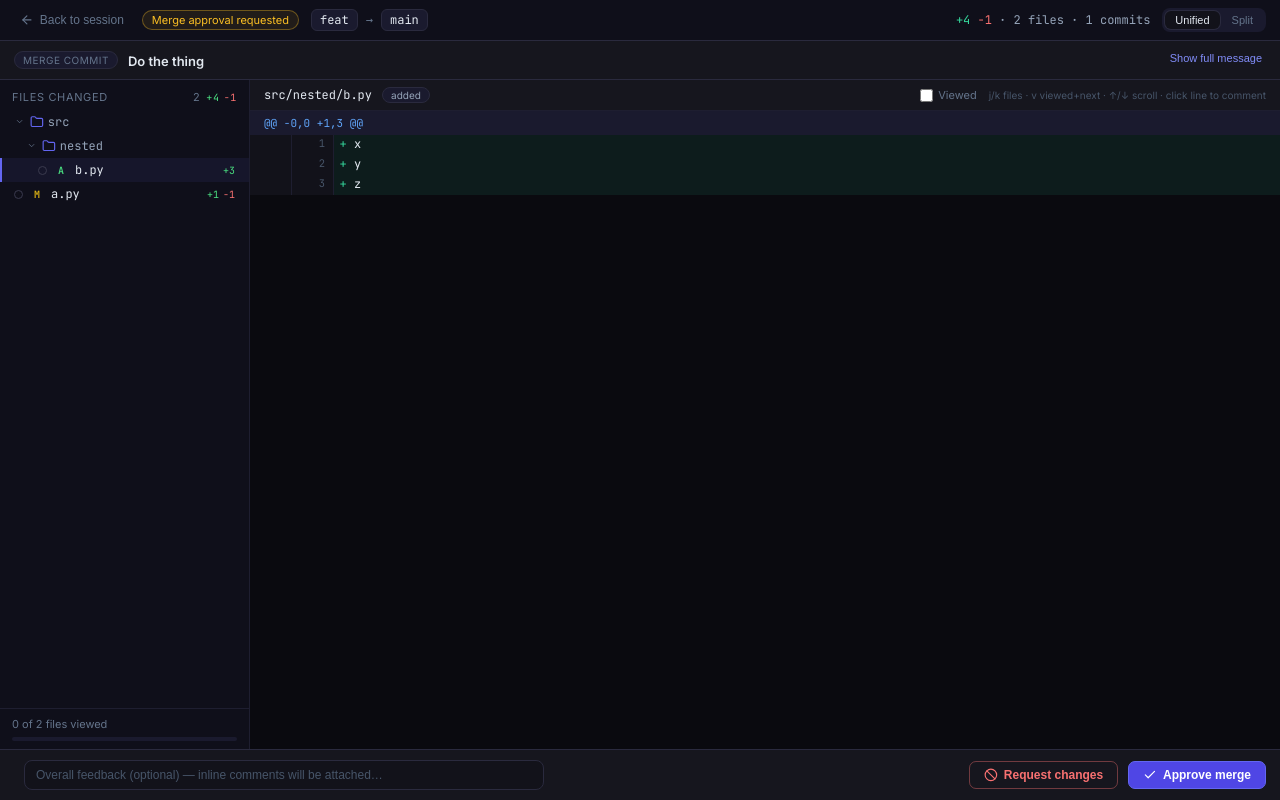
Test case: MergeReviewTakeover › renders branches, files, and diff after loading
Expected: the text "feat" is shown, x1=311 y1=9 x2=358 y2=31
Expected: the text "main" is shown, x1=381 y1=9 x2=428 y2=31
Click the text "a.py" at (65, 194), box x1=51 y1=186 x2=80 y2=202
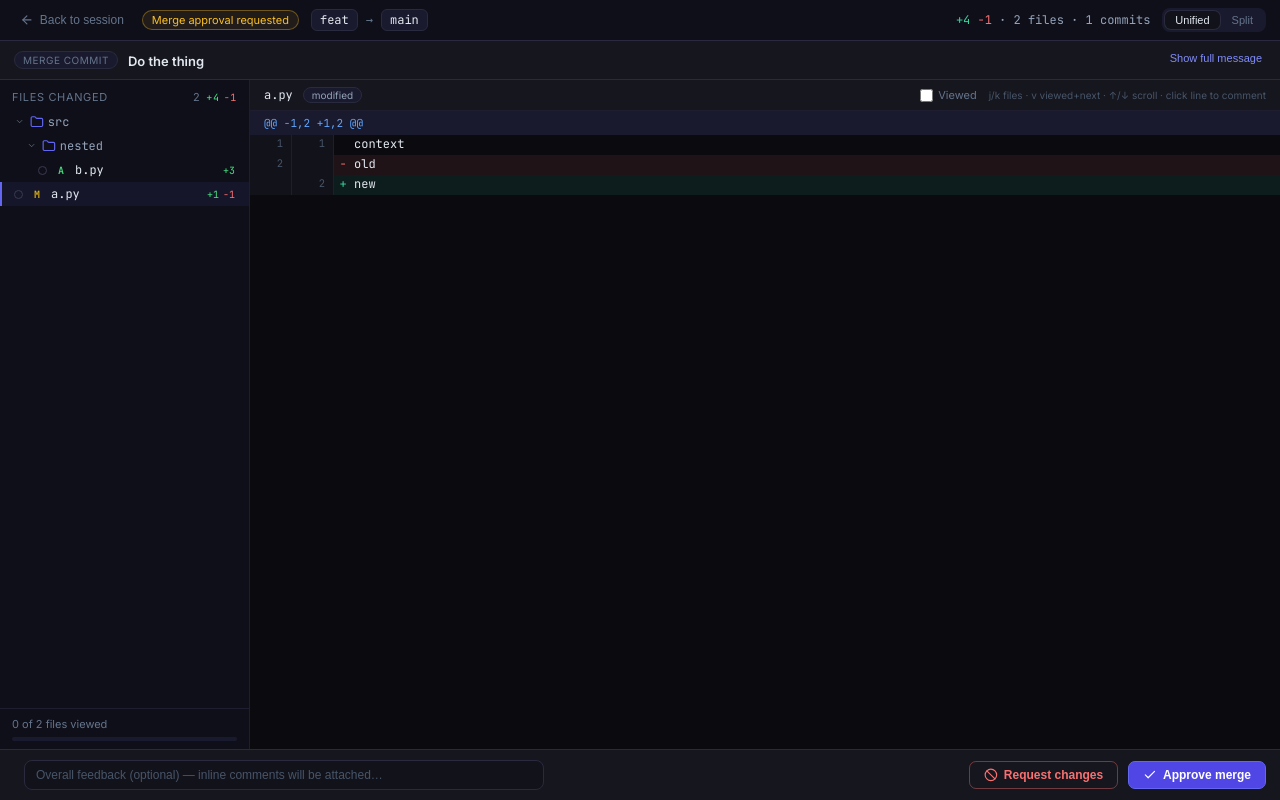
Expected: the button "Approve merge" is shown, x1=1128 y1=761 x2=1266 y2=789
Expected: the text "new" is shown, x1=354 y1=176 x2=376 y2=192
